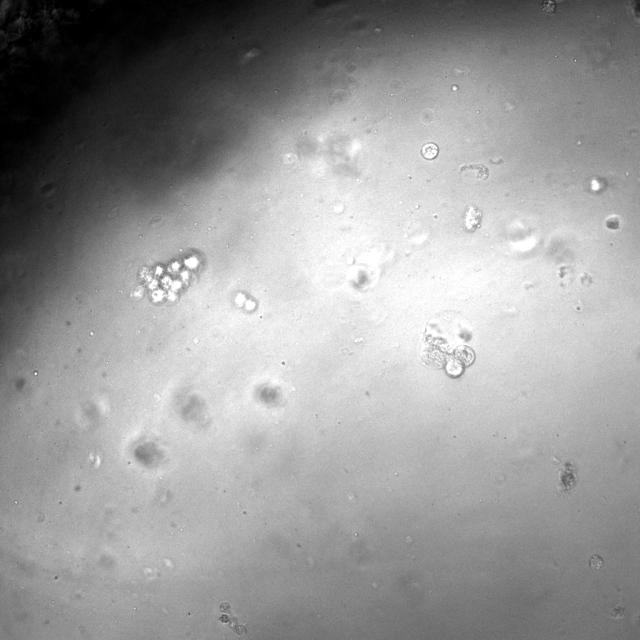organoid: (134, 250, 203, 305), (418, 312, 475, 378), (234, 291, 258, 313), (462, 205, 481, 232), (421, 142, 439, 160)
